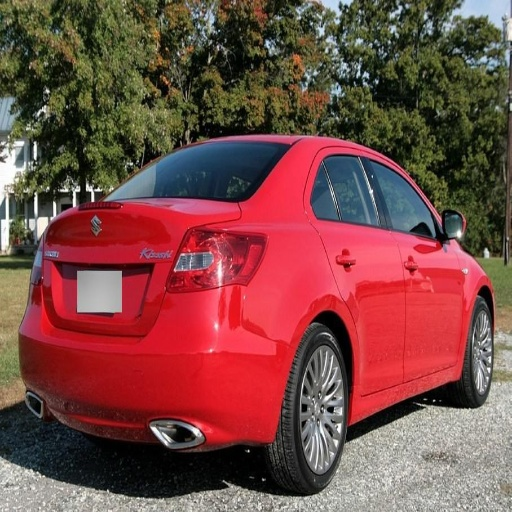back_bumper: (18, 286, 307, 452)
back_right_door: (309, 146, 403, 393)
tailgate: (41, 201, 220, 335)
